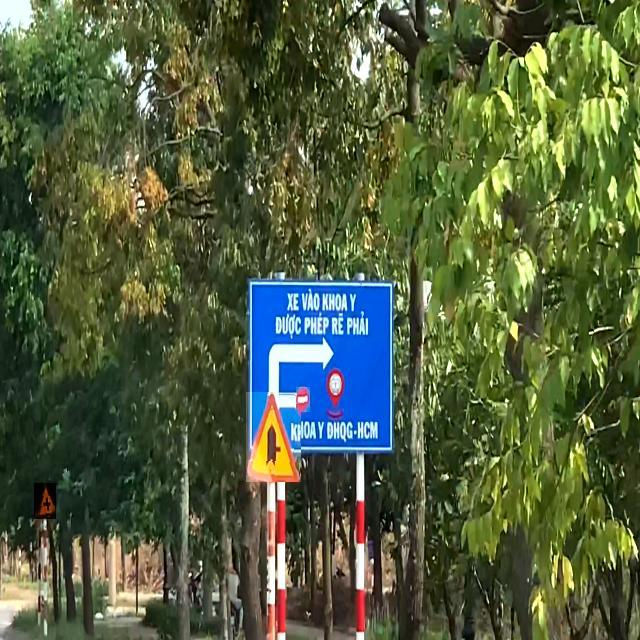P-102: (296, 387, 310, 412)
W-205a: (34, 484, 56, 520)
W-207b: (246, 392, 301, 482)
